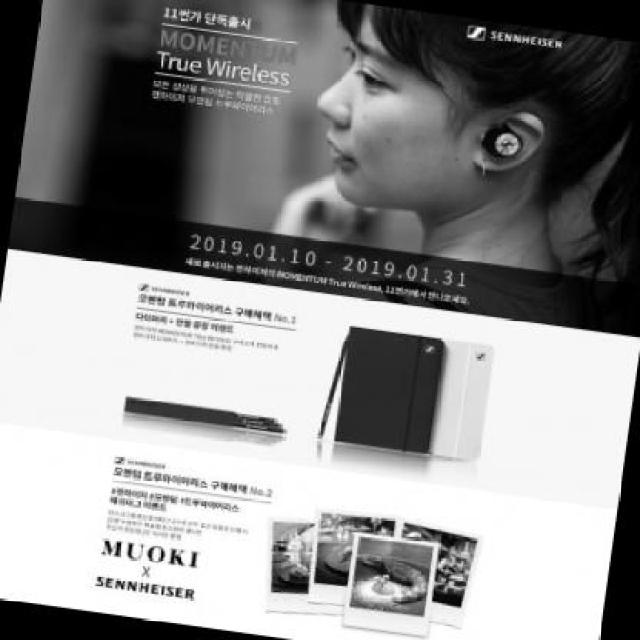earphone: (486, 125, 542, 186)
